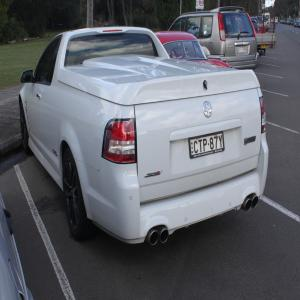Vehicle-registration-plate: (186, 123, 233, 171), (237, 47, 248, 55)
